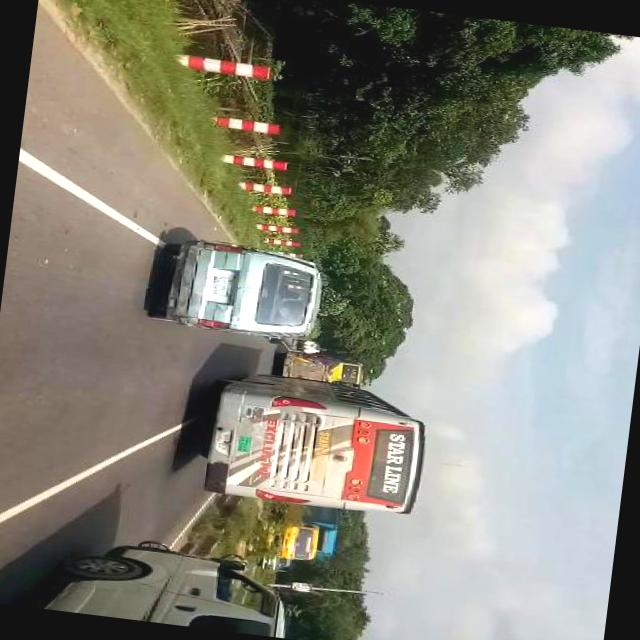bus: (190, 364, 428, 518), (278, 350, 367, 386)
truck: (45, 530, 293, 637), (149, 234, 325, 344), (259, 500, 341, 564), (261, 556, 296, 573)
